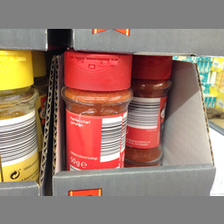spices: (62, 50, 133, 172), (126, 55, 173, 166)
